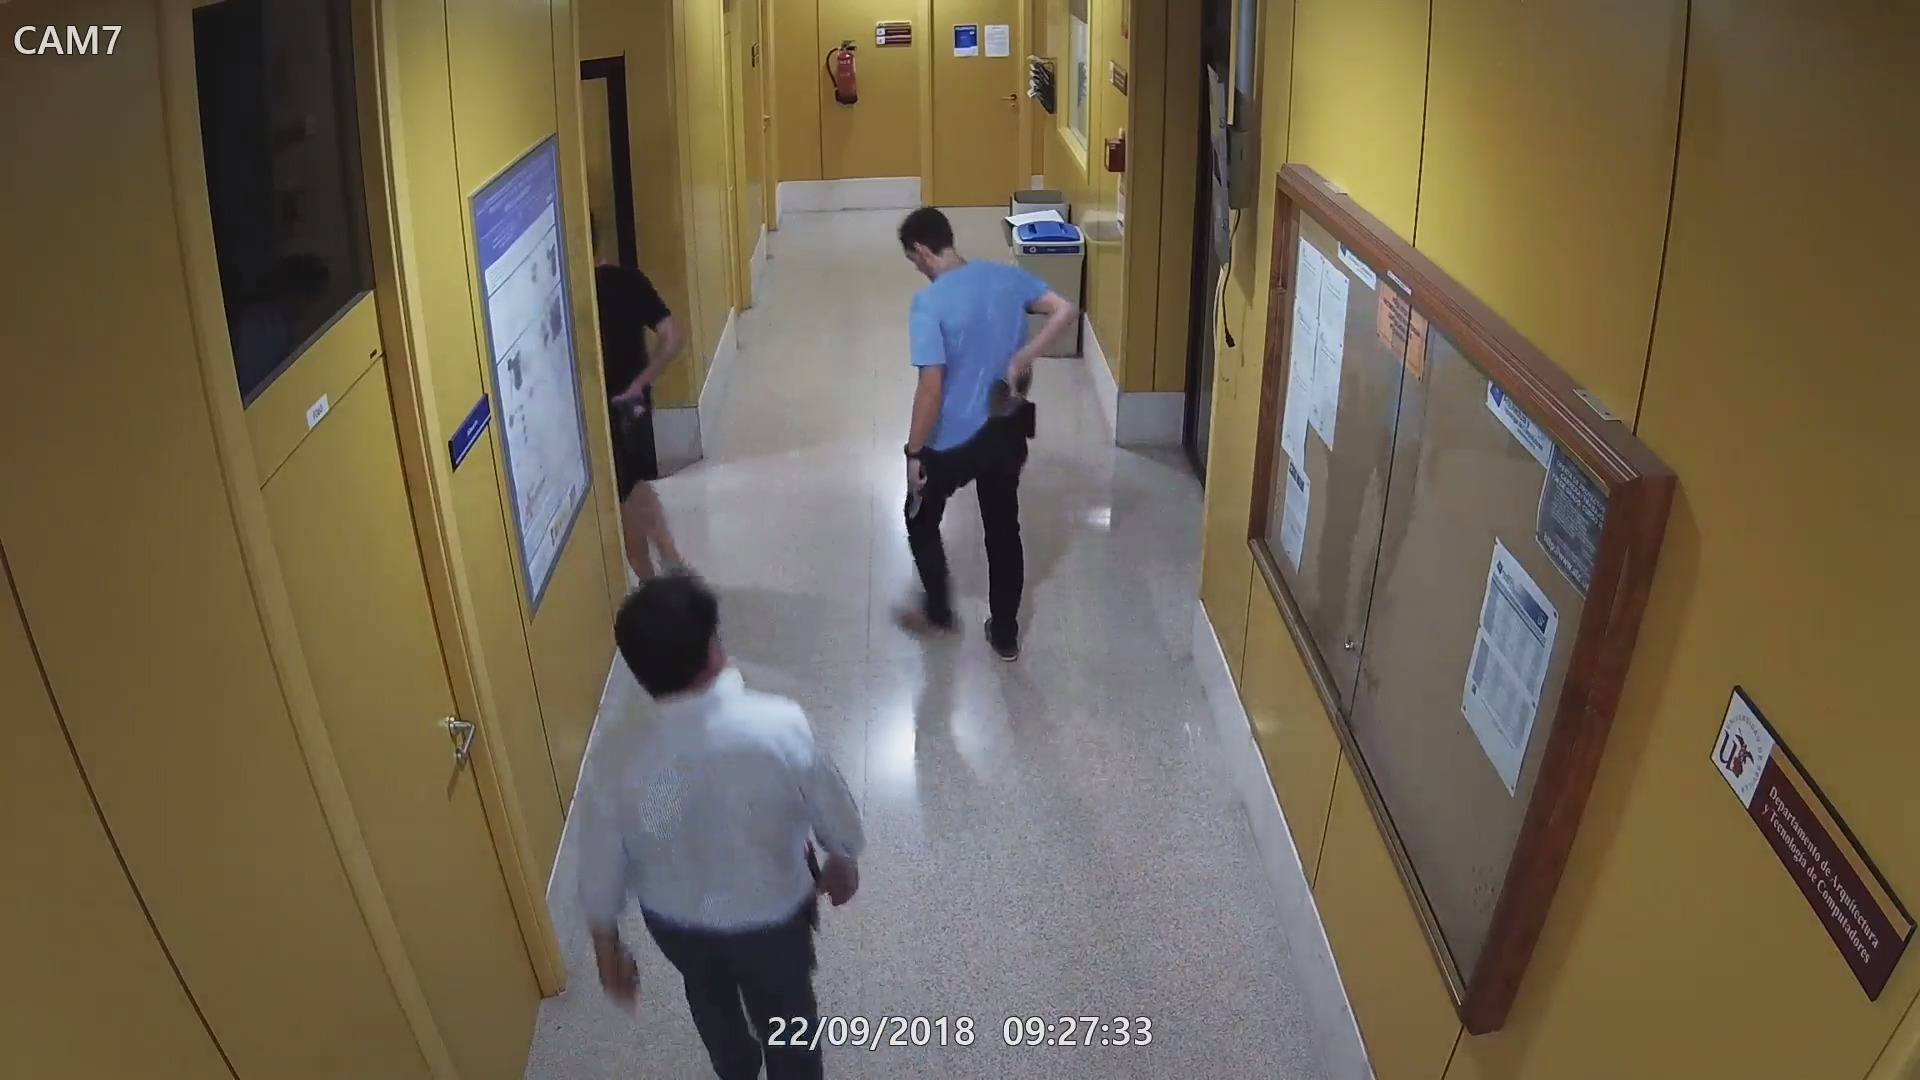knife: (903, 452, 928, 520)
pistol: (989, 375, 1033, 429), (609, 396, 651, 444)
